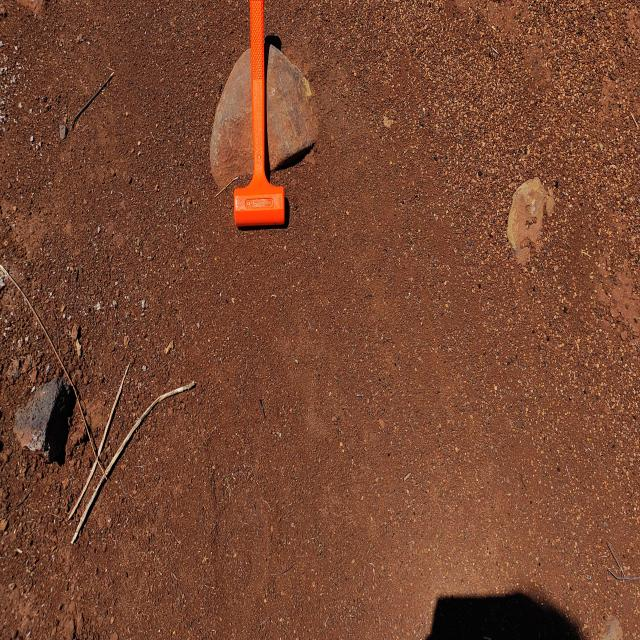Orange_hammer: (232, 0, 286, 229)
